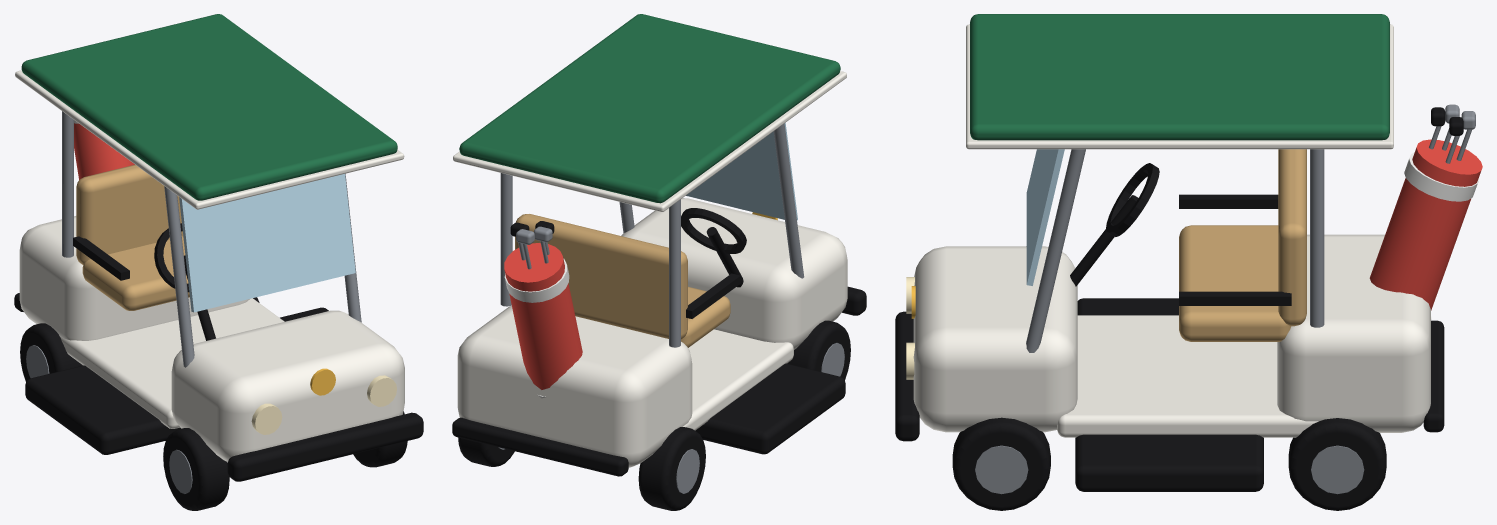
The model's file is GolfArabasi.fbx.
3 renders of one model, left to right at view 1: azimuth 30°, elevation 25°; view 2: azimuth 150°, elevation 25°; view 3: azimuth 270°, elevation 25°, orthographic. The views are drawn at different scales.
Visible parts, largest first — view 1: GolfArabasi_Model; view 2: GolfArabasi_Model; view 3: GolfArabasi_Model.
Boxes of the visible parts, x1,y1,x2,y2 form: GolfArabasi_Model: (14,14,423,510); GolfArabasi_Model: (452,14,866,510); GolfArabasi_Model: (895,14,1482,510).
Size of the model in its own units: 2 by 2.08 by 2.87.
